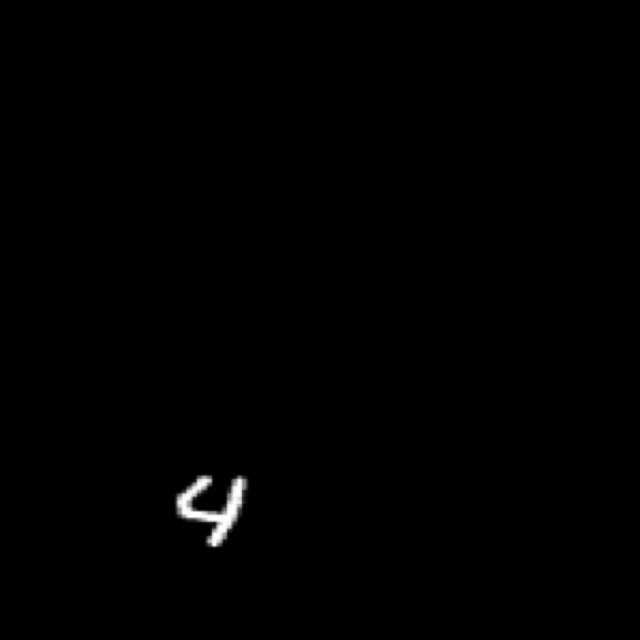four -4-: (159, 465, 267, 561)
